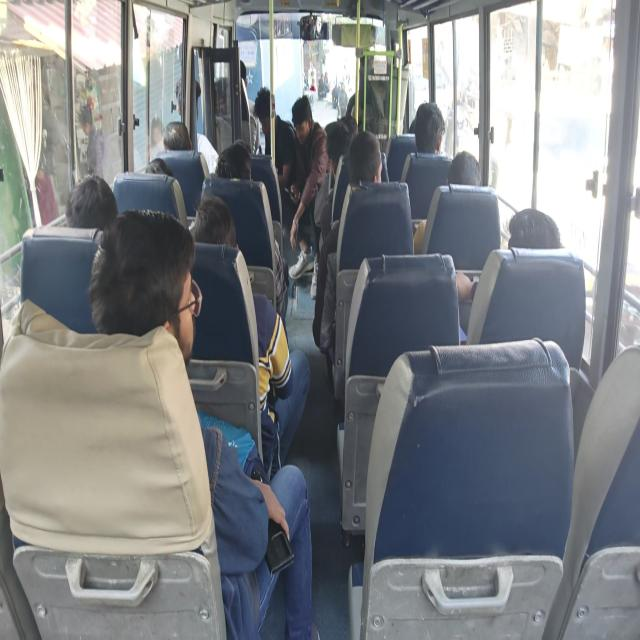person: (88, 207, 320, 638), (192, 193, 310, 480), (312, 130, 383, 381), (214, 141, 289, 320), (455, 207, 562, 302), (287, 95, 328, 281), (310, 120, 351, 298), (413, 150, 481, 254), (174, 74, 220, 175), (253, 86, 298, 189), (65, 173, 118, 229), (507, 208, 562, 248), (414, 101, 446, 154), (214, 141, 252, 180), (446, 150, 481, 186), (162, 120, 191, 151), (148, 116, 164, 159), (145, 157, 173, 176)
